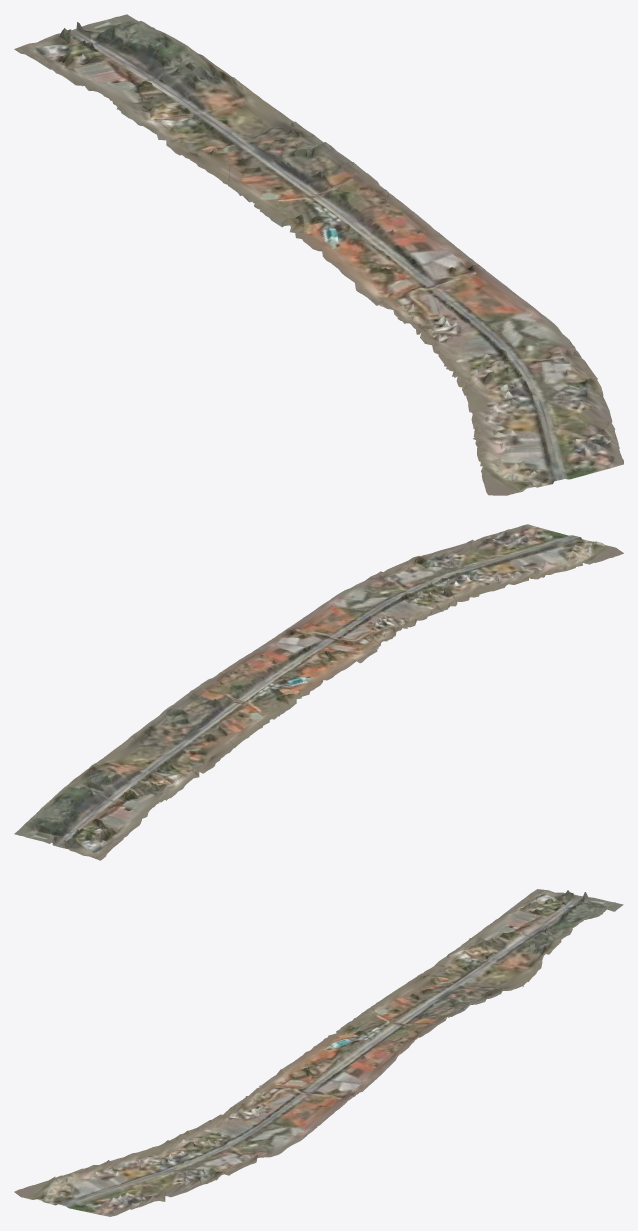
The model's file is BlockBY.glb.
3 renders of one model, top to bottom at view 1: azimuth 30°, elevation 25°; view 2: azimuth 150°, elevation 25°; view 3: azimuth 330°, elevation 25°, orthographic. The views are drawn at different scales.
Parts seen in each view (by area): view 1: rtc; view 2: rtc; view 3: rtc.
Boxes of the visible parts, x1=… form: rtc: x1=14, y1=14, x2=623, y2=495; rtc: x1=14, y1=524, x2=623, y2=860; rtc: x1=14, y1=889, x2=623, y2=1216.
Bounding box in the file's own units: 601 × 68.46 × 2646.
Materials: 1 (1 with a texture image).
